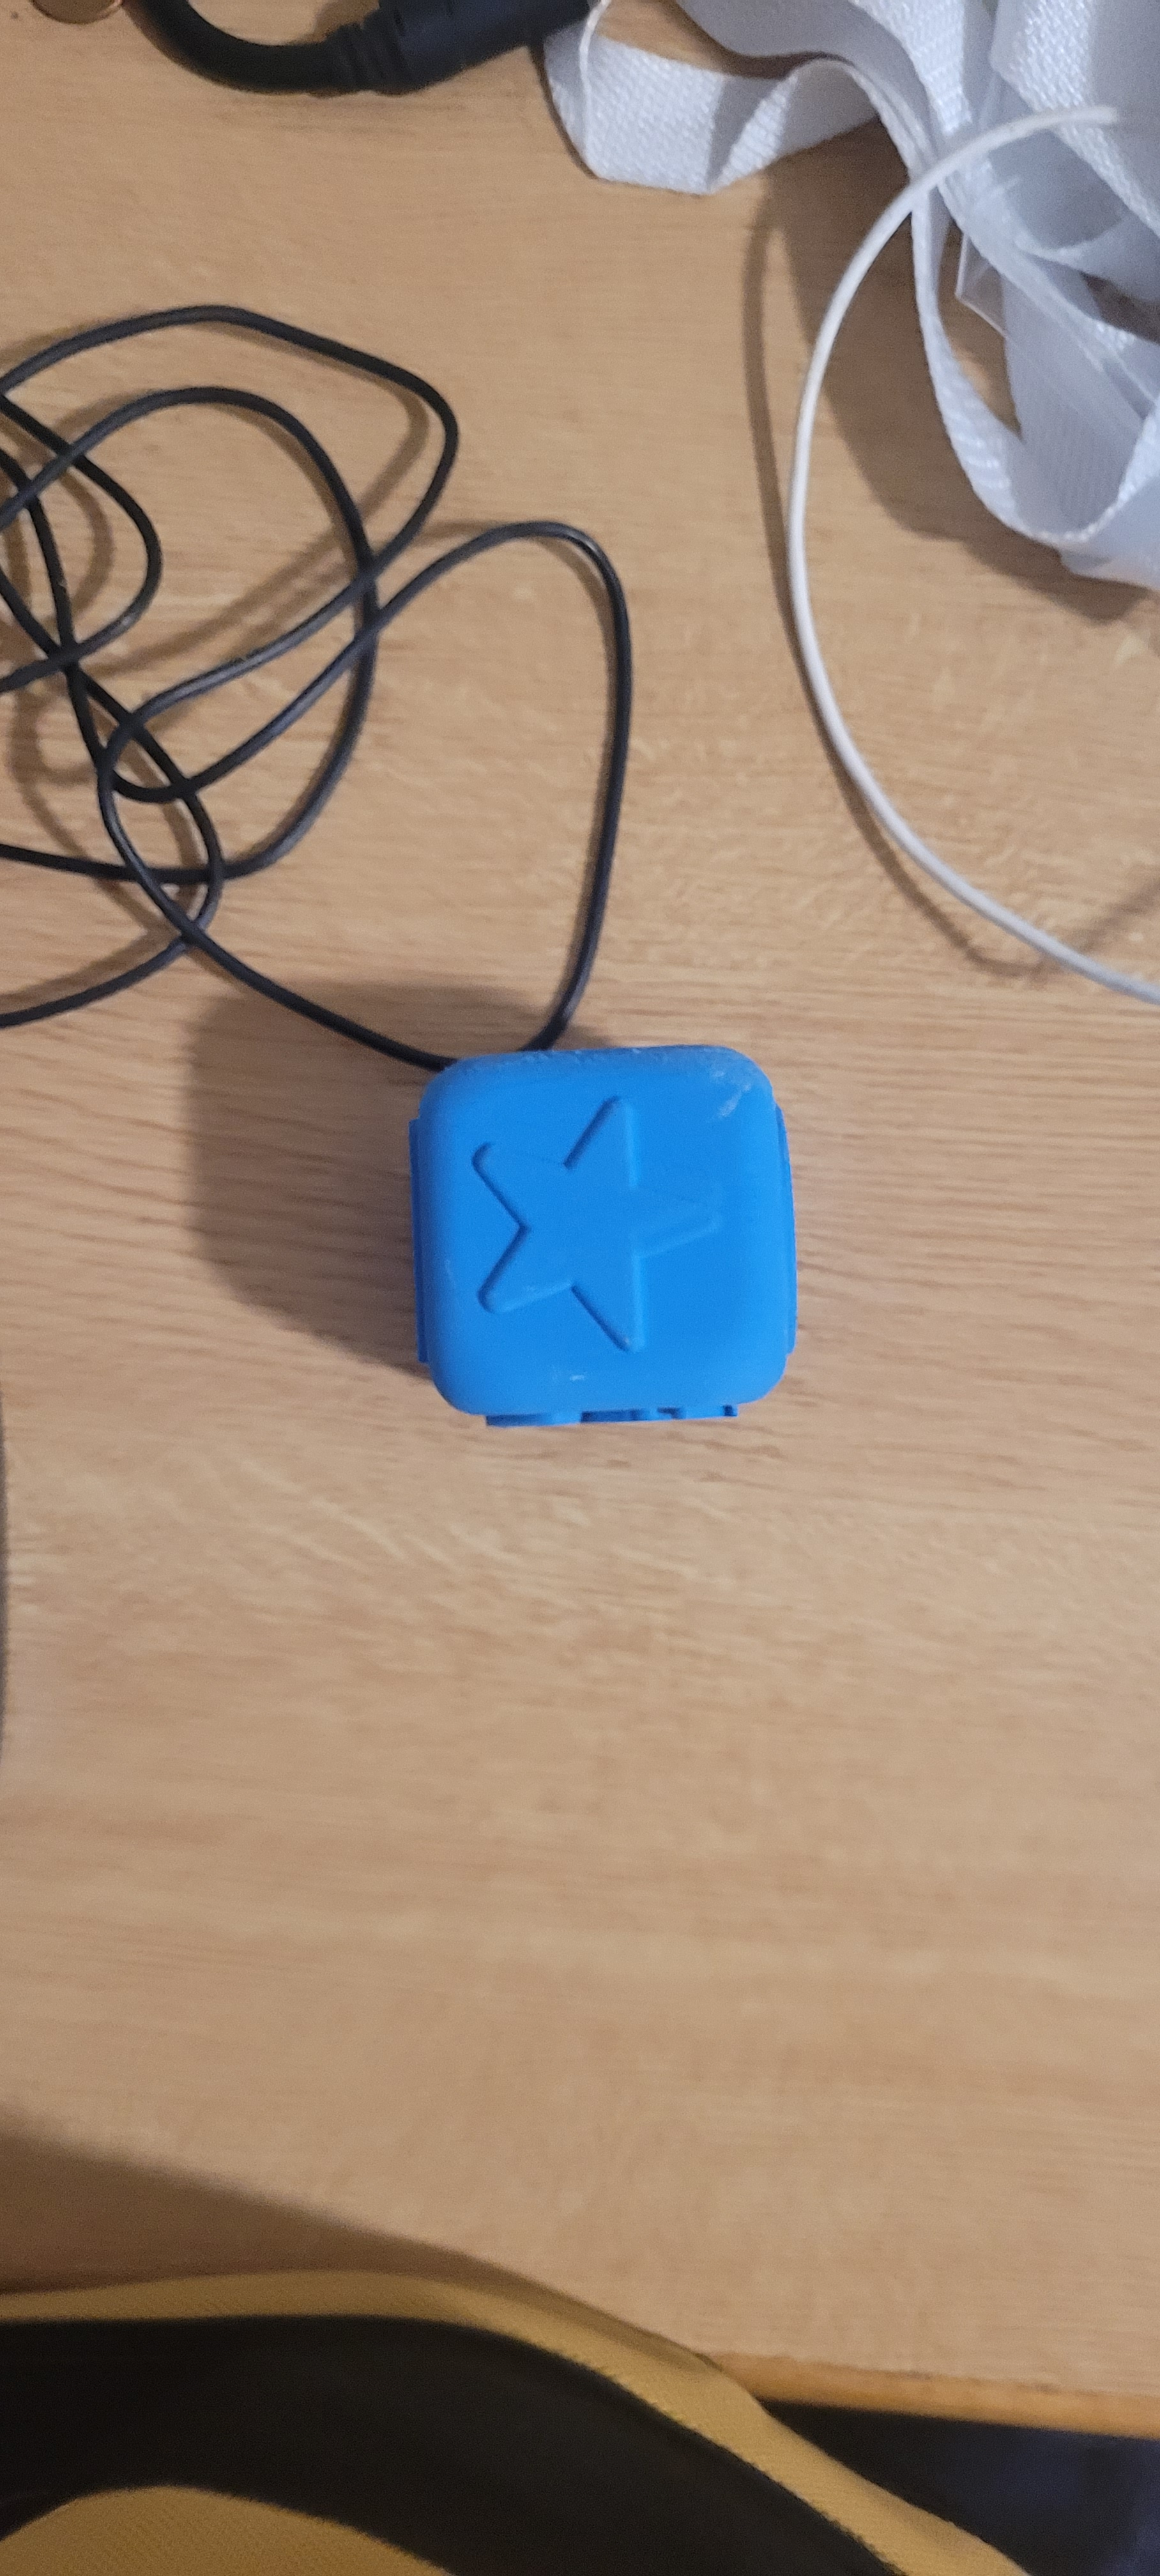Star: (434, 1056, 754, 1347)
